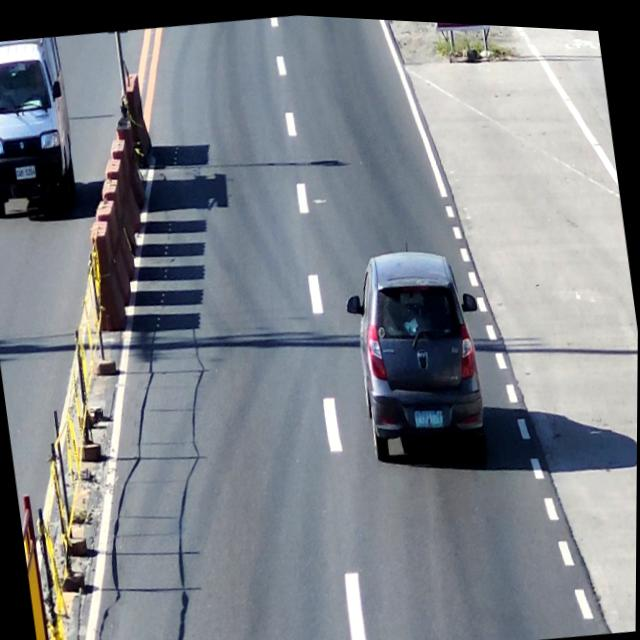Car: (343, 232, 503, 483)
License-Plate: (410, 395, 449, 431), (12, 159, 42, 184)
